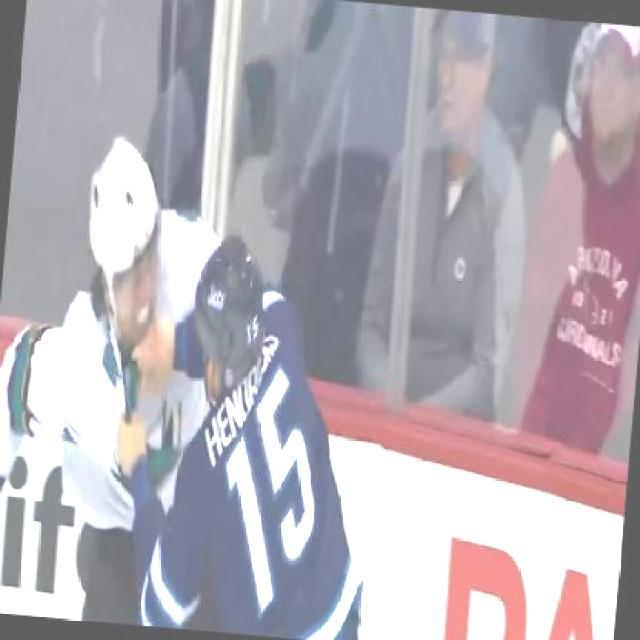fight: (0, 126, 360, 639)
